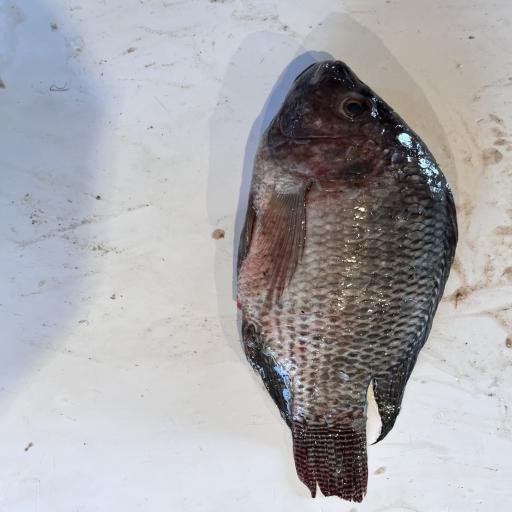Tilapia: (236, 59, 460, 503)
